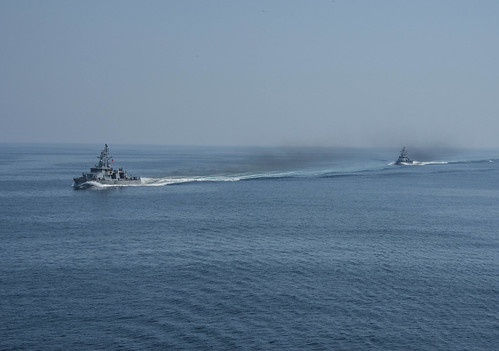boat: (70, 139, 147, 195)
sea: (5, 142, 499, 351)
sky: (1, 1, 497, 142)
